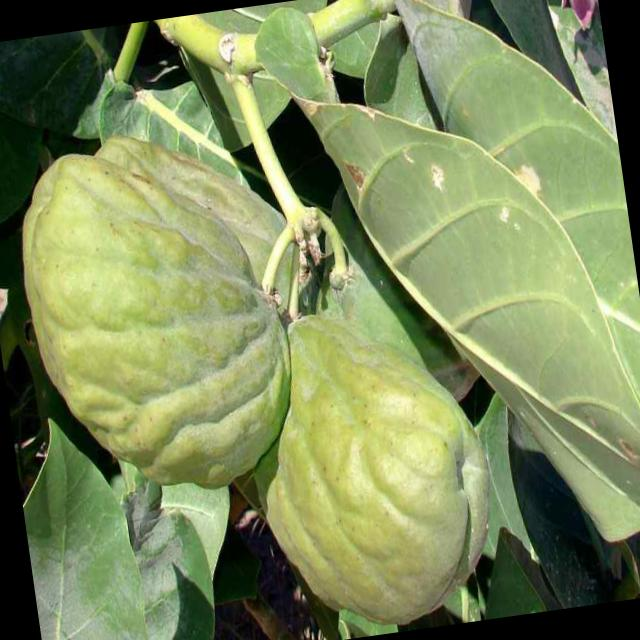Poisonous-Calatropis: (286, 0, 640, 578), (0, 118, 312, 509), (240, 287, 519, 640)
